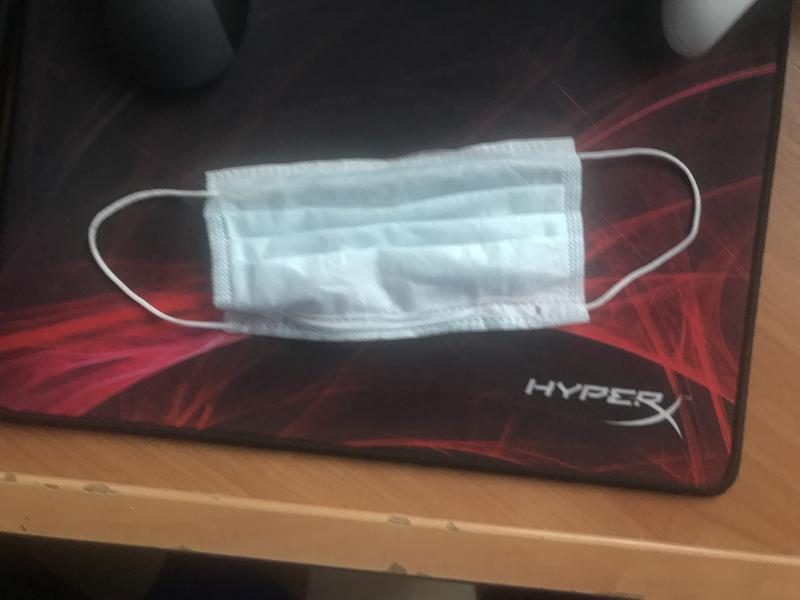medical_mask: (86, 139, 701, 340)
